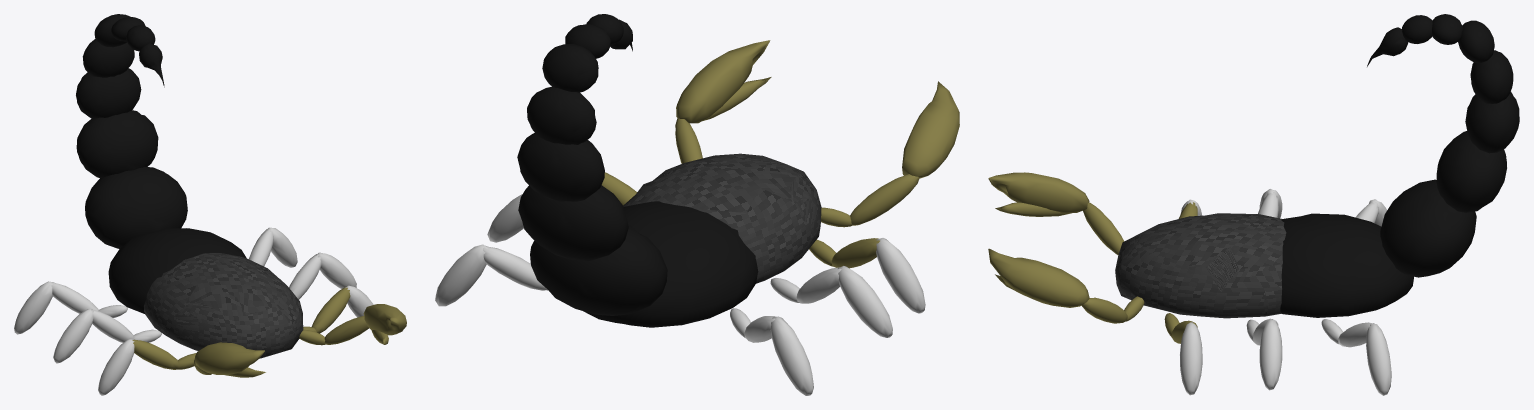
Rendered from scorpion_000018.obj.
The picture shows the model from 3 angles, left to right: view 1: azimuth 30°, elevation 25°; view 2: azimuth 150°, elevation 25°; view 3: azimuth 270°, elevation 25°; orthographic projection. The views are drawn at different scales.
Parts seen in each view (by area): view 1: Sphere.010_Sphere.012, Sphere.002_Sphere.004, Sphere.011_Sphere.013, Sphere.003_Sphere.005, Sphere.030_Sphere.000, Sphere.004_Sphere.006, Sphere.012_Sphere.020, Sphere.014_Sphere.023, Sphere.013_Sphere.017, Sphere.000_Sphere.019, Sphere.005_Sphere.007, Sphere.016_Sphere.022 (+7 smaller); view 2: Sphere.010_Sphere.012, Sphere.011_Sphere.013, Sphere.002_Sphere.004, Sphere.030_Sphere.000, Sphere.003_Sphere.005, Sphere.004_Sphere.006, Sphere.014_Sphere.023, Sphere.005_Sphere.007, Sphere.012_Sphere.020, Sphere.028_Sphere.046, Sphere.006_Sphere.008, Sphere.018_Sphere.025 (+8 smaller); view 3: Sphere.010_Sphere.012, Sphere.011_Sphere.013, Sphere.002_Sphere.004, Sphere.030_Sphere.000, Sphere.003_Sphere.005, Sphere.004_Sphere.006, Sphere.028_Sphere.046, Sphere.005_Sphere.007, Sphere.014_Sphere.023, Sphere.012_Sphere.020, Sphere.000_Sphere.019, Sphere.006_Sphere.008 (+7 smaller).
Part boxes in pixels (box(x1,y1,x2,y2)): Sphere.010_Sphere.012: box(144, 253, 303, 358); Sphere.002_Sphere.004: box(85, 167, 187, 248); Sphere.011_Sphere.013: box(108, 228, 246, 313); Sphere.003_Sphere.005: box(76, 110, 158, 178); Sphere.030_Sphere.000: box(194, 304, 406, 374); Sphere.004_Sphere.006: box(76, 68, 141, 118); Sphere.012_Sphere.020: box(53, 252, 356, 363); Sphere.014_Sphere.023: box(14, 227, 297, 334); Sphere.013_Sphere.017: box(132, 286, 350, 369); Sphere.000_Sphere.019: box(98, 285, 373, 395); Sphere.005_Sphere.007: box(82, 39, 134, 77); Sphere.016_Sphere.022: box(92, 254, 321, 342); Sphere.010_Sphere.012: box(623, 153, 821, 283); Sphere.011_Sphere.013: box(583, 201, 758, 327); Sphere.002_Sphere.004: box(530, 225, 667, 315); Sphere.030_Sphere.000: box(676, 40, 959, 178); Sphere.003_Sphere.005: box(518, 185, 628, 260); Sphere.004_Sphere.006: box(517, 132, 604, 201); Sphere.014_Sphere.023: box(435, 244, 813, 395); Sphere.005_Sphere.007: box(527, 86, 596, 144); Sphere.012_Sphere.020: box(487, 194, 892, 337); Sphere.028_Sphere.046: box(675, 118, 919, 225); Sphere.006_Sphere.008: box(542, 44, 598, 92); Sphere.018_Sphere.025: box(483, 246, 775, 342); Sphere.010_Sphere.012: box(1115, 213, 1286, 318); Sphere.011_Sphere.013: box(1280, 213, 1413, 317); Sphere.002_Sphere.004: box(1380, 179, 1476, 277); Sphere.030_Sphere.000: box(988, 172, 1089, 307); Sphere.003_Sphere.005: box(1436, 131, 1506, 212); Sphere.004_Sphere.006: box(1465, 91, 1519, 153); Sphere.028_Sphere.046: box(1081, 202, 1127, 323); Sphere.005_Sphere.007: box(1470, 50, 1513, 103); Sphere.014_Sphere.023: box(1366, 199, 1391, 395); Sphere.012_Sphere.020: box(1259, 189, 1282, 390); Sphere.000_Sphere.019: box(1180, 199, 1202, 395); Sphere.006_Sphere.008: box(1458, 20, 1494, 63).
Bounding box in the file's own units: 0.9606 × 0.7976 × 1.27.
